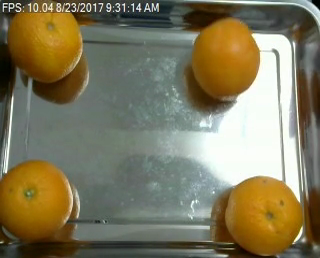Orange: (224, 175, 306, 255), (6, 1, 82, 83), (1, 160, 74, 240), (191, 18, 260, 98)
